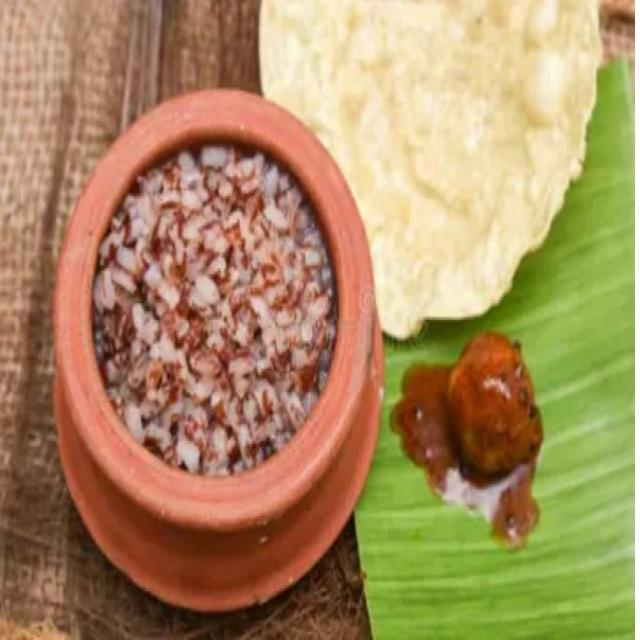PAPADAM: (257, 5, 638, 333)
PICKLE: (399, 314, 569, 595)
PORRIDGE: (41, 93, 357, 569)
